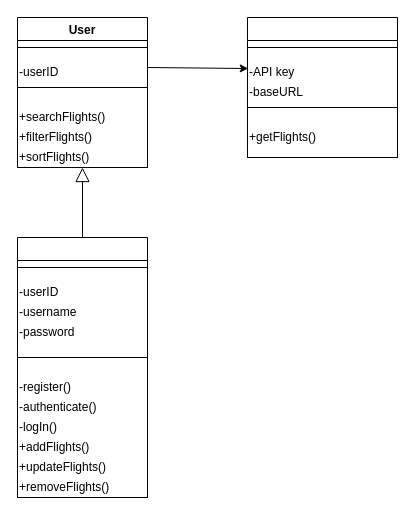
Some shapes in this 415 by 515 pixel diagram are drawn without their labels. Each missing label, with the box of its shape:
FlightSearchEngine: (246, 16, 398, 158)
Travel Agency: (16, 236, 148, 498)
